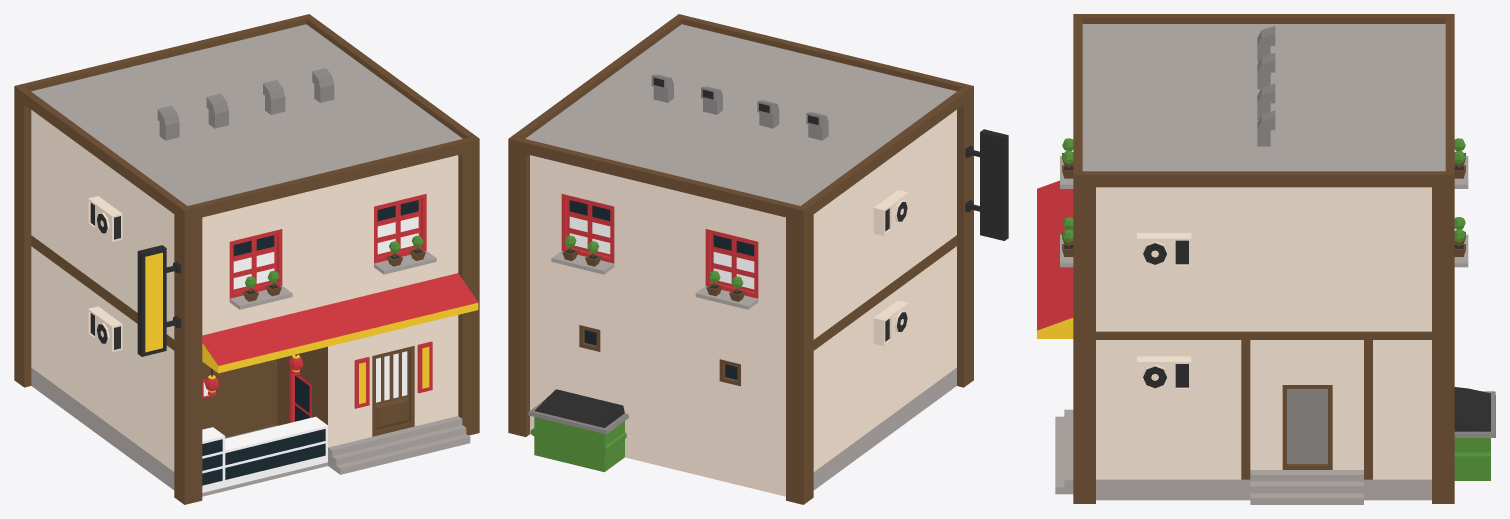
File: building-shop-china.glb
3 views of the same model, side by side, from view 1: azimuth 30°, elevation 25°; view 2: azimuth 150°, elevation 25°; view 3: azimuth 270°, elevation 25° (orthographic). The views are drawn at different scales.
Parts seen in each view (by area): view 1: building-shop-china; view 2: building-shop-china; view 3: building-shop-china.
Boxes of the visible parts, x1,y1,x2,y2 form: building-shop-china: (14, 14, 479, 504); building-shop-china: (508, 14, 1008, 504); building-shop-china: (1037, 14, 1495, 504).
Size of the model in its own units: 9.65 by 8.55 by 10.11.
1 material, 1 textured.
